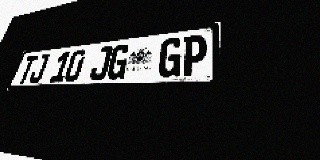0: (63, 49, 87, 82)
1: (49, 51, 73, 82)
G: (157, 37, 183, 78), (105, 43, 131, 80)
J: (88, 46, 113, 81), (28, 54, 50, 83)
P: (180, 34, 208, 77)
T: (16, 55, 39, 84)
